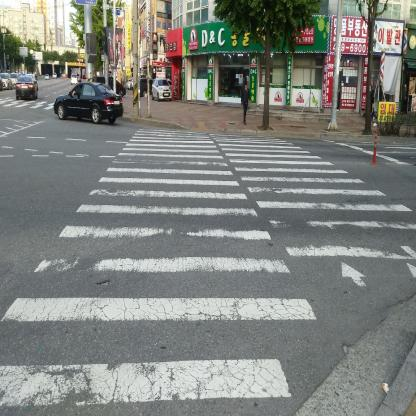Red: (152, 32, 158, 60)
